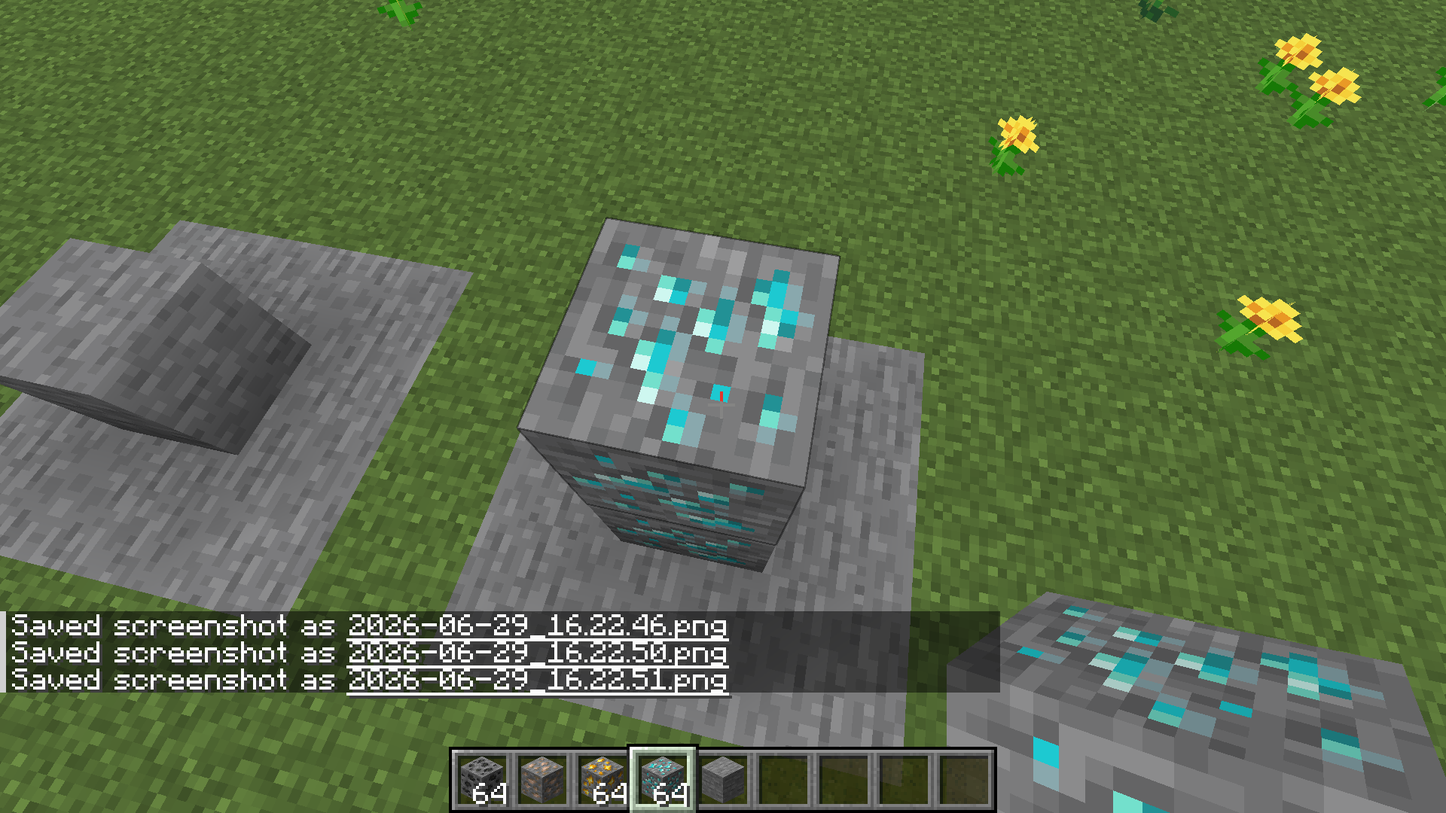diamond ore: (524, 222, 834, 488), (526, 434, 804, 573)
stone: (4, 237, 308, 452)
